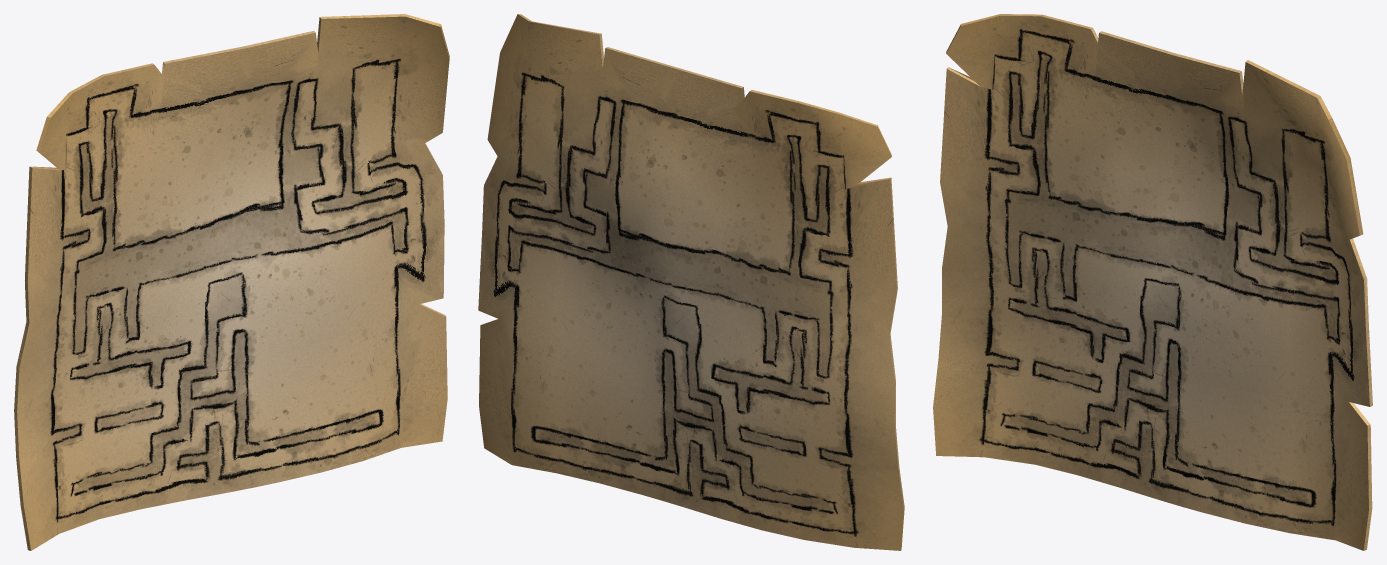
The model's file is Map.fbx.
The picture shows the model from 3 angles, left to right: view 1: azimuth 30°, elevation 25°; view 2: azimuth 150°, elevation 25°; view 3: azimuth 330°, elevation 25°; orthographic projection. The views are drawn at different scales.
Visible parts, largest first — view 1: Map; view 2: Map; view 3: Map.
Boxes of the visible parts, x1=… form: Map: x1=14, y1=14, x2=449, y2=550; Map: x1=478, y1=14, x2=904, y2=550; Map: x1=933, y1=14, x2=1372, y2=550.
Size of the model in its own units: 41.31 by 41.95 by 5.67.
